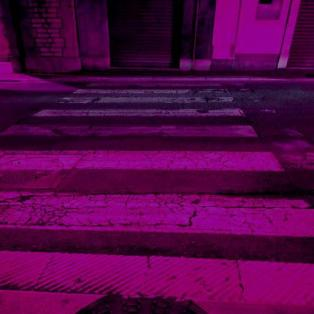Paso de Cebra: (0, 144, 314, 241), (26, 95, 250, 120)
